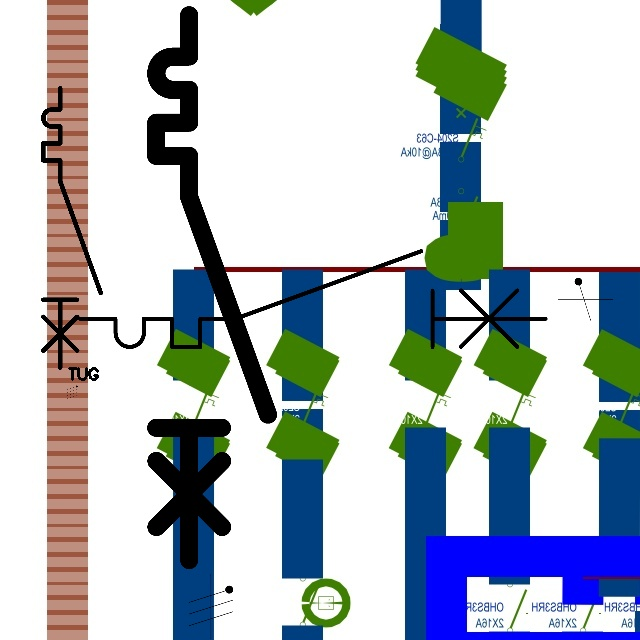interruptor_termomagnetico: (142, 1, 282, 574), (68, 239, 557, 359), (36, 81, 108, 375)
